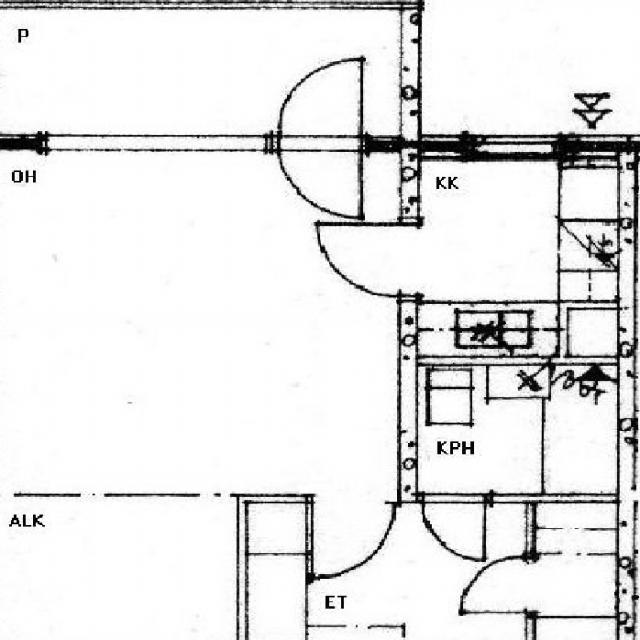door: (275, 135, 365, 230), (308, 218, 417, 296), (275, 56, 365, 150), (306, 493, 396, 581), (419, 492, 489, 564), (458, 554, 536, 613)
